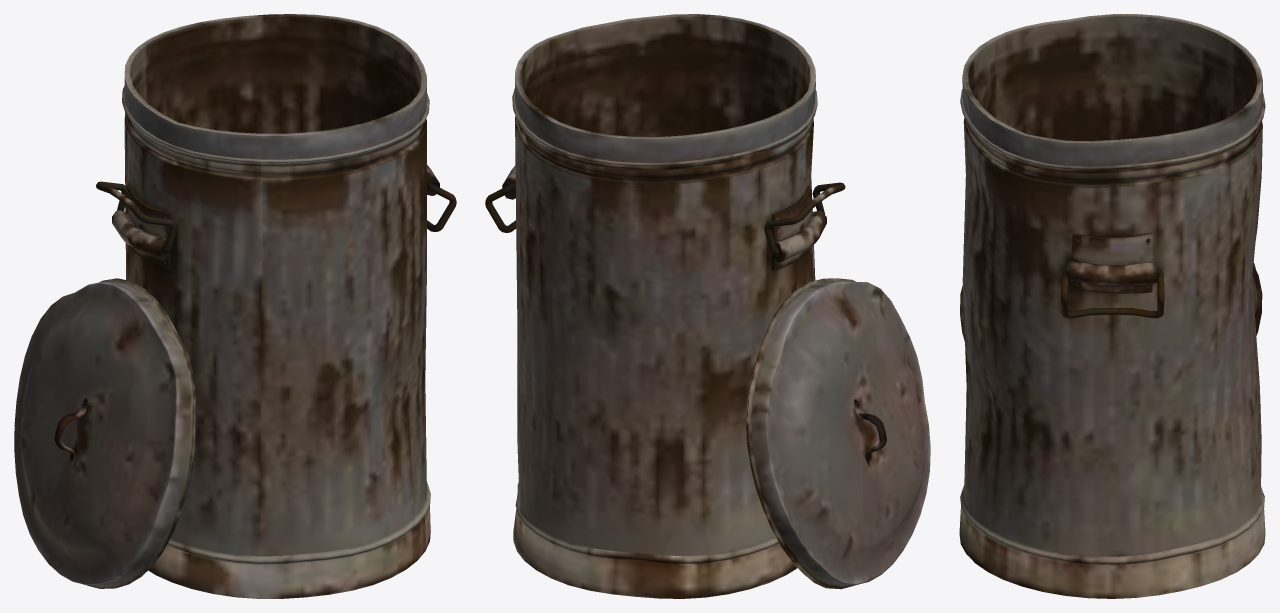
File: metal_trash_can.glb
3 renders of one model, left to right at view 1: azimuth 30°, elevation 25°; view 2: azimuth 150°, elevation 25°; view 3: azimuth 270°, elevation 25°, orthographic.
Visible parts, largest first — view 1: metal_trash_can_rust, metal_trash_can_rust_lid, metal_trash_can_rust_handle_left; view 2: metal_trash_can_rust, metal_trash_can_rust_lid, metal_trash_can_rust_handle_left, metal_trash_can_rust_handle_right; view 3: metal_trash_can_rust, metal_trash_can_rust_handle_right, metal_trash_can_rust_lid.
Part boxes in pixels (left/top/right/bottom): metal_trash_can_rust: left=112, top=14, right=439, bottom=598; metal_trash_can_rust_lid: left=14, top=278, right=196, bottom=588; metal_trash_can_rust_handle_left: left=96, top=181, right=176, bottom=254; metal_trash_can_rust: left=502, top=14, right=826, bottom=598; metal_trash_can_rust_lid: left=746, top=278, right=930, bottom=589; metal_trash_can_rust_handle_left: left=764, top=182, right=845, bottom=255; metal_trash_can_rust_handle_right: left=485, top=183, right=516, bottom=232; metal_trash_can_rust: left=959, top=14, right=1265, bottom=598; metal_trash_can_rust_handle_right: left=1061, top=267, right=1164, bottom=318; metal_trash_can_rust_lid: left=960, top=262, right=1262, bottom=341.
Bounding box in the file's own units: 0.7733 × 0.9062 × 0.5482.
Materials: 1 (1 with a texture image).
